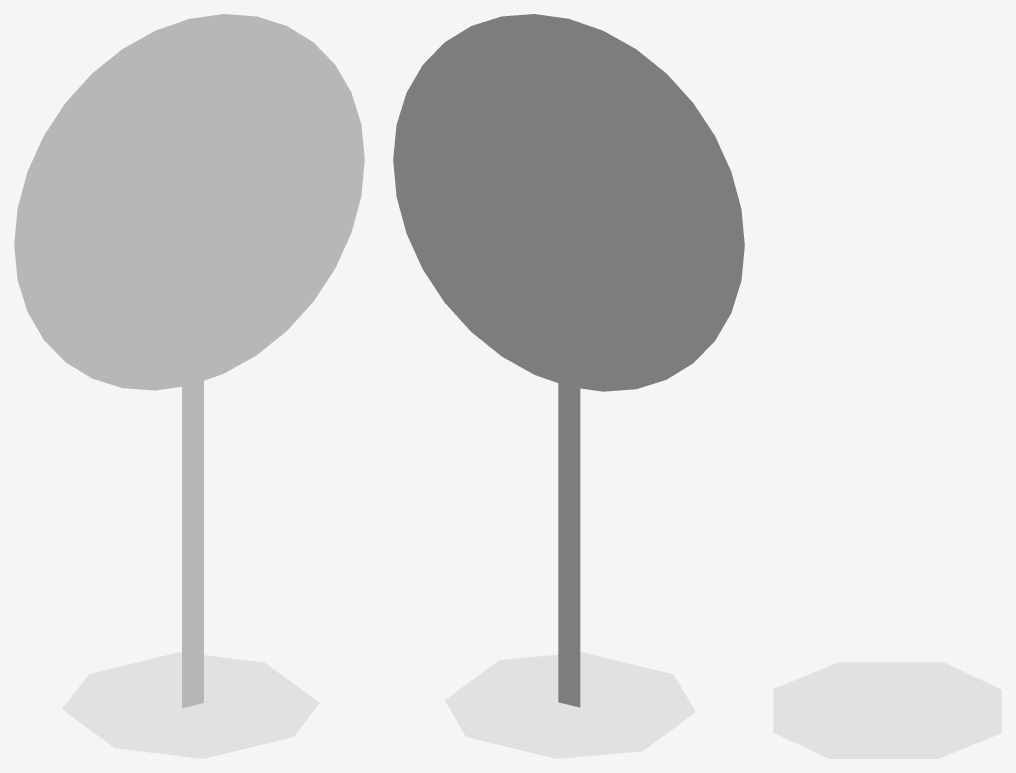
File: DragMarker.fbx
3 renders of one model, left to right at view 1: azimuth 30°, elevation 25°; view 2: azimuth 150°, elevation 25°; view 3: azimuth 270°, elevation 25°, orthographic.
Visible parts, largest first — view 1: Label, Ring, Marker, Post; view 2: Label, Ring, Marker, Post; view 3: Marker.
Boxes of the visible parts, bbox=[...] form: Label: bbox=[35, 36, 343, 368]; Ring: bbox=[14, 14, 364, 390]; Marker: bbox=[62, 652, 319, 758]; Post: bbox=[182, 363, 203, 708]; Label: bbox=[414, 36, 723, 369]; Ring: bbox=[393, 14, 744, 391]; Marker: bbox=[445, 652, 695, 758]; Post: bbox=[558, 383, 580, 707]; Marker: bbox=[773, 662, 1001, 758].
Size of the model in its own units: 175 by 332 by 100.
